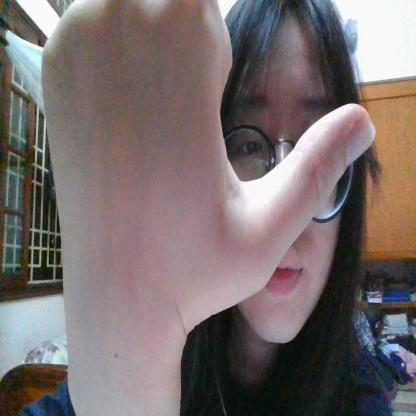left: (40, 1, 376, 320)
